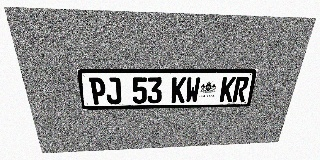3: (147, 77, 162, 103)
5: (132, 77, 147, 104)
J: (105, 77, 122, 104)
K: (219, 77, 236, 102), (171, 77, 186, 103)
P: (89, 77, 107, 105)
R: (232, 77, 250, 102)
W: (185, 77, 201, 103)
